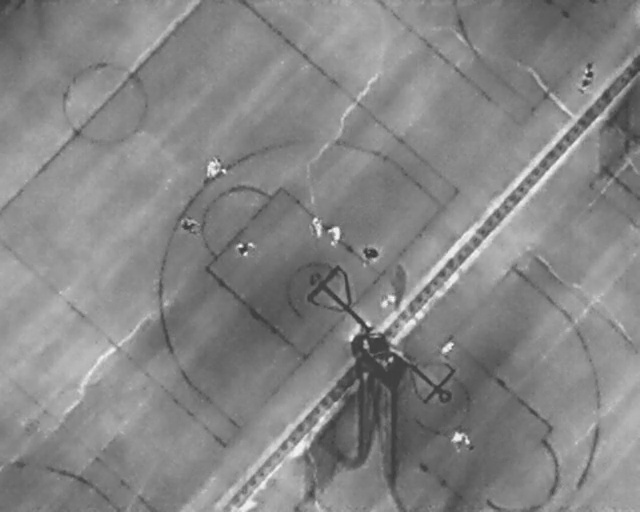Person: (576, 57, 597, 94), (436, 334, 459, 360), (452, 426, 471, 455), (234, 237, 256, 259), (206, 156, 225, 181), (362, 243, 379, 268), (180, 213, 198, 236), (328, 222, 342, 248), (310, 213, 322, 239)
